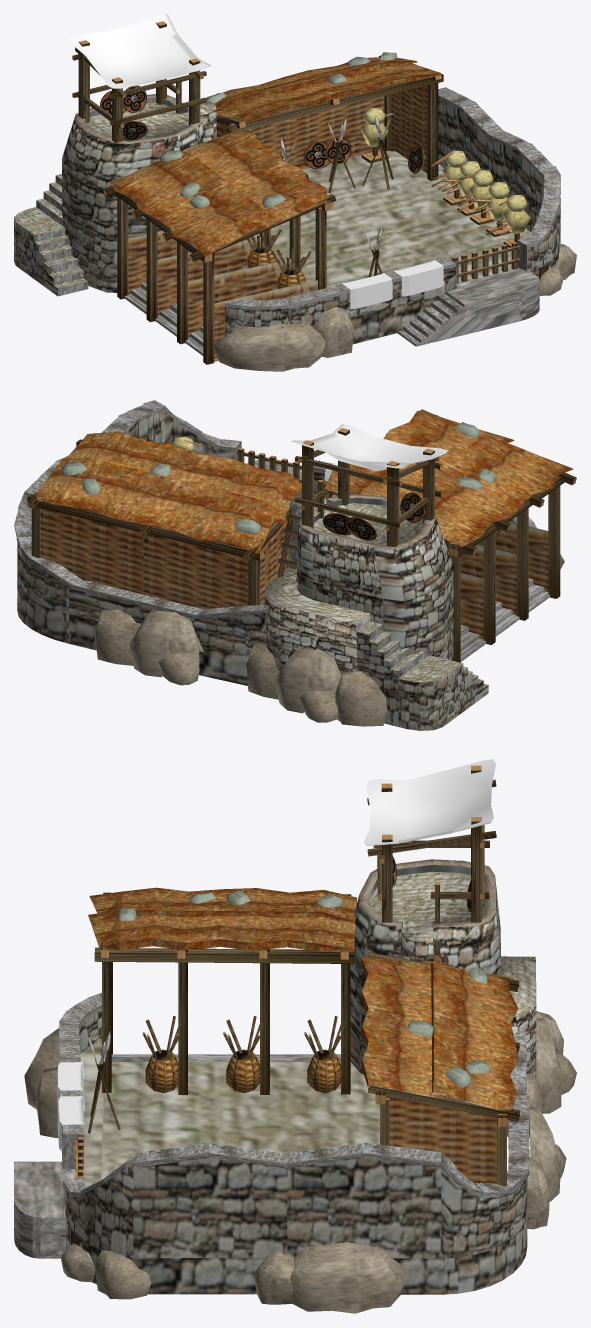
The model's file is lusi_new_range.dae.
The picture shows the model from 3 angles, top to bottom: view 1: azimuth 30°, elevation 25°; view 2: azimuth 150°, elevation 25°; view 3: azimuth 270°, elevation 25°; orthographic projection. The views are drawn at different scales.
Parts seen in each view (by area): view 1: raneg; view 2: raneg; view 3: raneg.
Boxes of the visible parts, x1=… form: raneg: x1=14, y1=14, x2=576, y2=371; raneg: x1=14, y1=400, x2=576, y2=730; raneg: x1=14, y1=759, x2=576, y2=1313.
Size of the model in its own units: 34.73 by 28.76 by 16.99.
